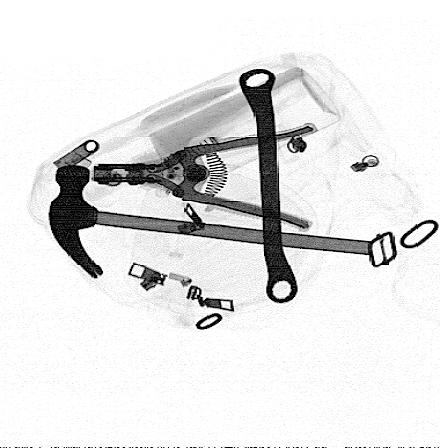Hammer: (50, 167, 374, 280)
Pliers: (89, 120, 322, 231)
Wrench: (235, 67, 303, 305)
